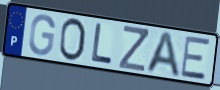A: (143, 30, 182, 80)
E: (179, 35, 211, 82)
G: (27, 12, 57, 57)
L: (90, 22, 114, 67)
O: (57, 17, 87, 63)
Z: (117, 24, 150, 74)
